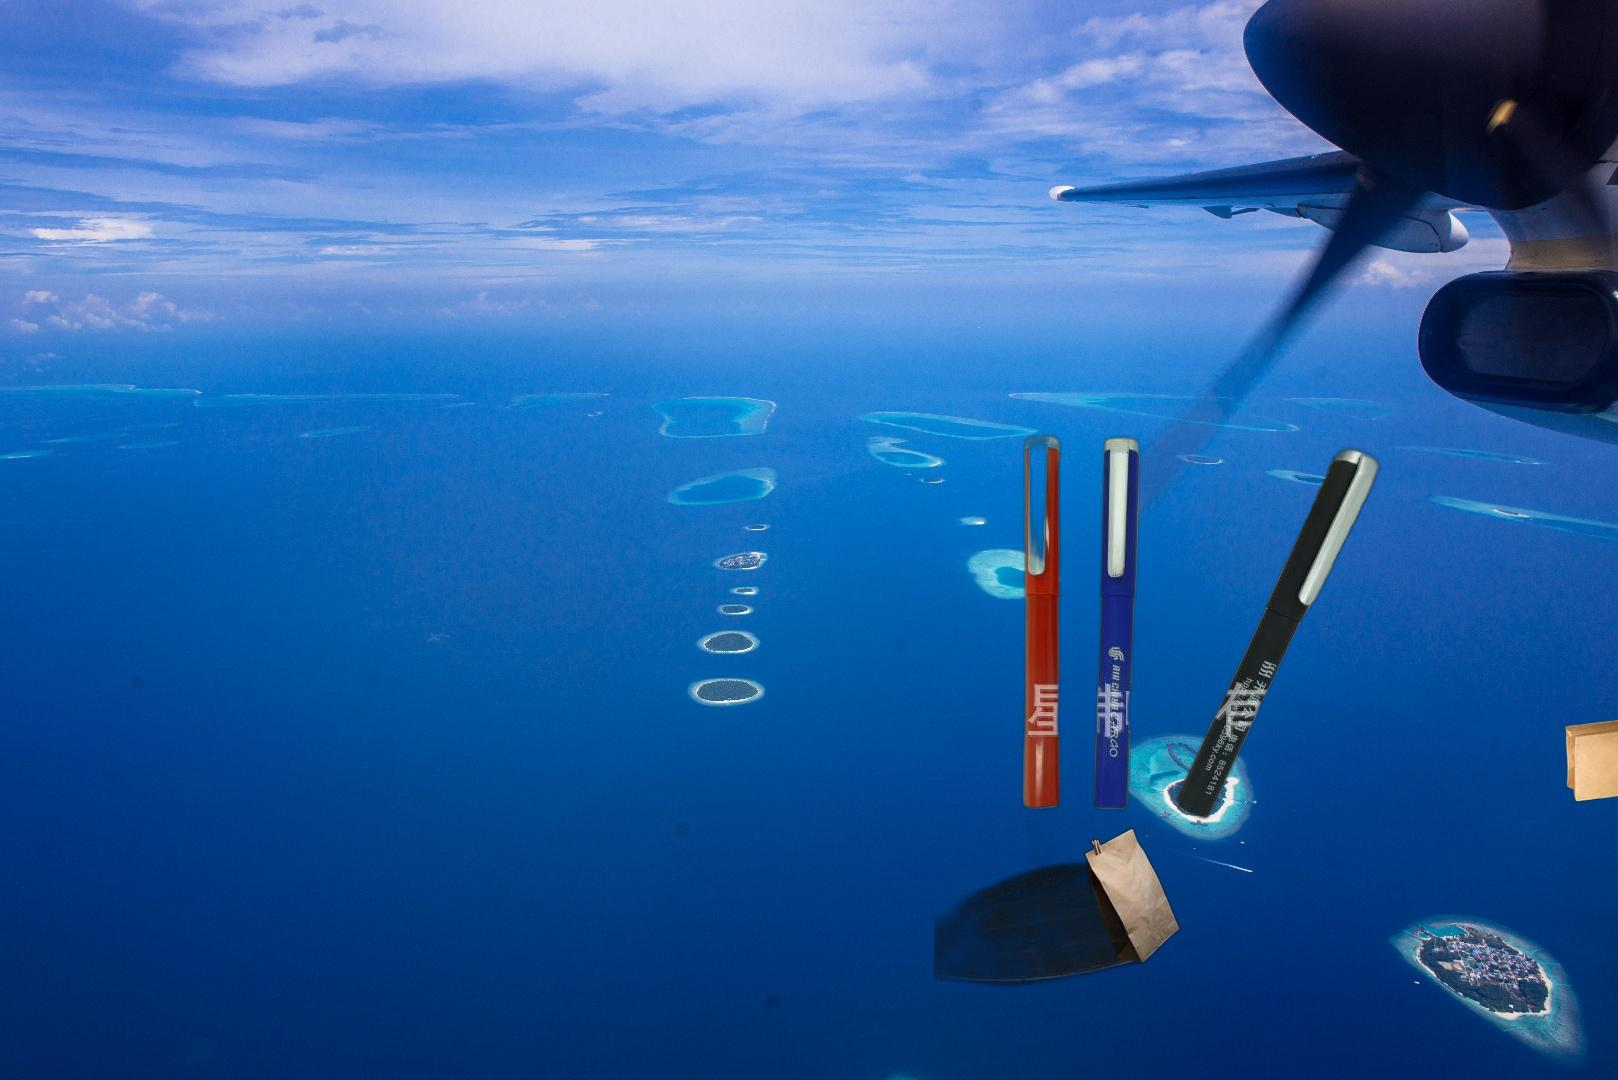paper-bag: (934, 812, 1183, 1076), (1548, 524, 1618, 805)
penholder: (1017, 407, 1385, 867)
